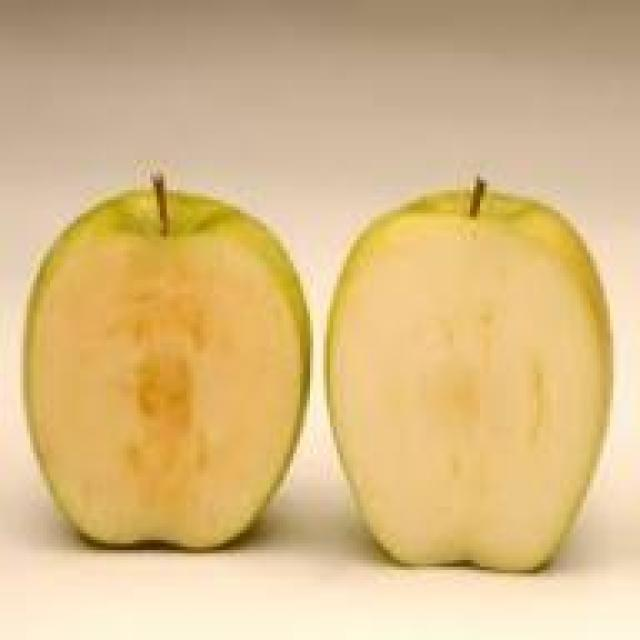apple: (327, 197, 610, 583), (27, 204, 310, 544)
